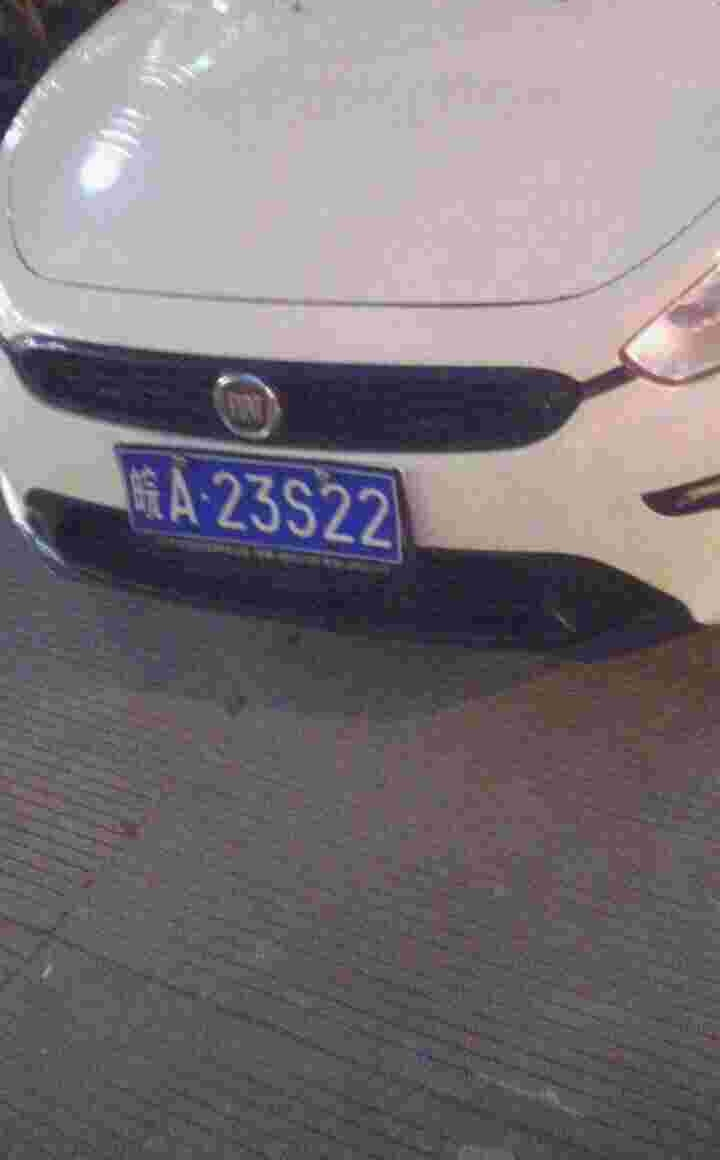license_plate: (117, 448, 407, 556)
